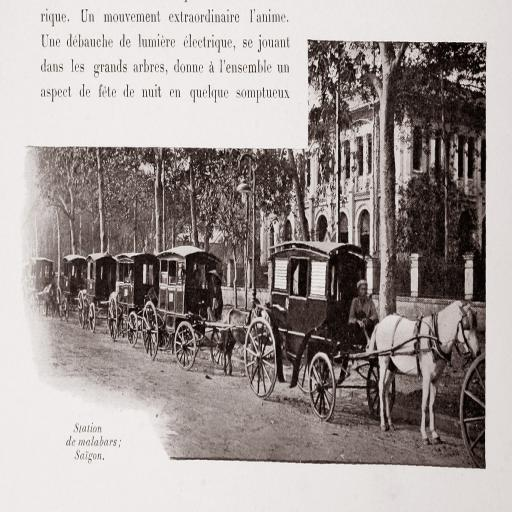horse: (366, 300, 480, 446), (220, 306, 264, 382)
